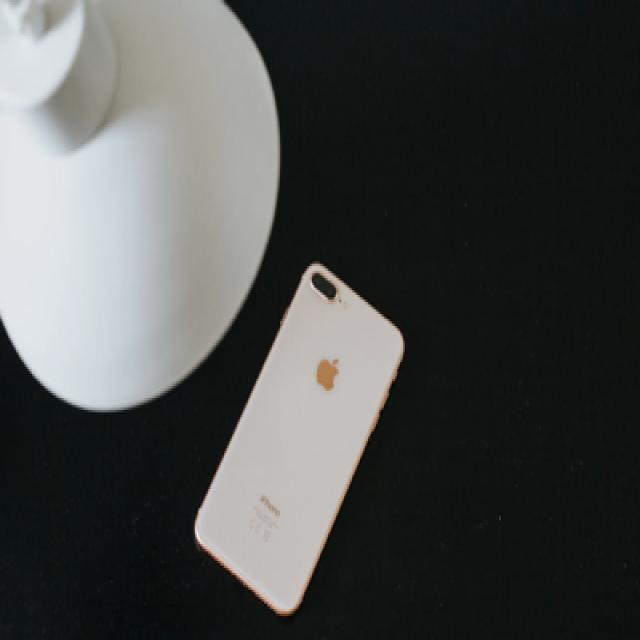cellphone: (192, 259, 405, 616)
